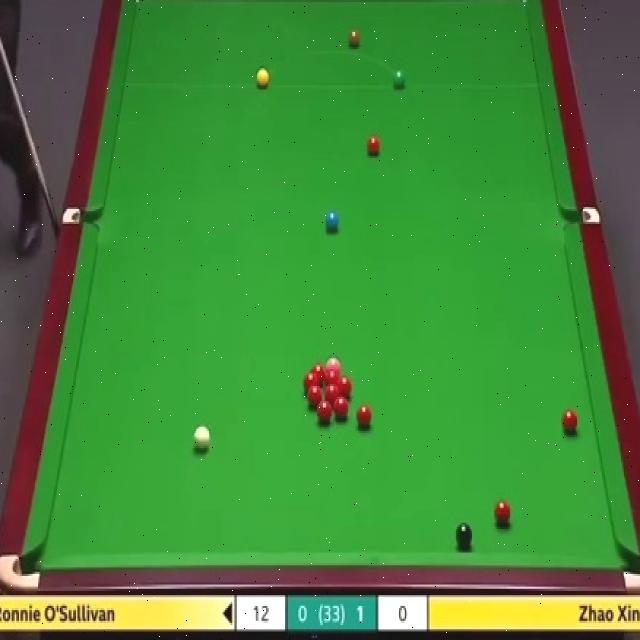black-ball: (455, 523, 474, 550)
blue-ball: (324, 210, 340, 234)
brown-ball: (347, 30, 361, 51)
green-ball: (392, 69, 408, 92)
pink-ball: (326, 358, 341, 369)
red-ball: (494, 500, 512, 527), (366, 133, 382, 158), (562, 410, 578, 435), (333, 397, 348, 421), (357, 406, 372, 429), (337, 377, 352, 398), (318, 402, 332, 424), (304, 372, 321, 390), (308, 386, 321, 408), (311, 366, 326, 384), (326, 385, 340, 400), (325, 368, 337, 385)
white-ball: (194, 427, 210, 450)
yellow-ball: (256, 68, 269, 89)
